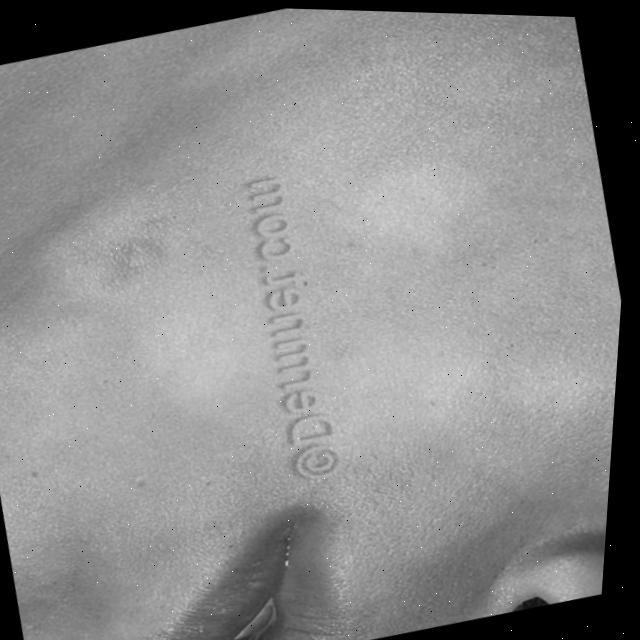Eczema: (89, 210, 175, 274)
